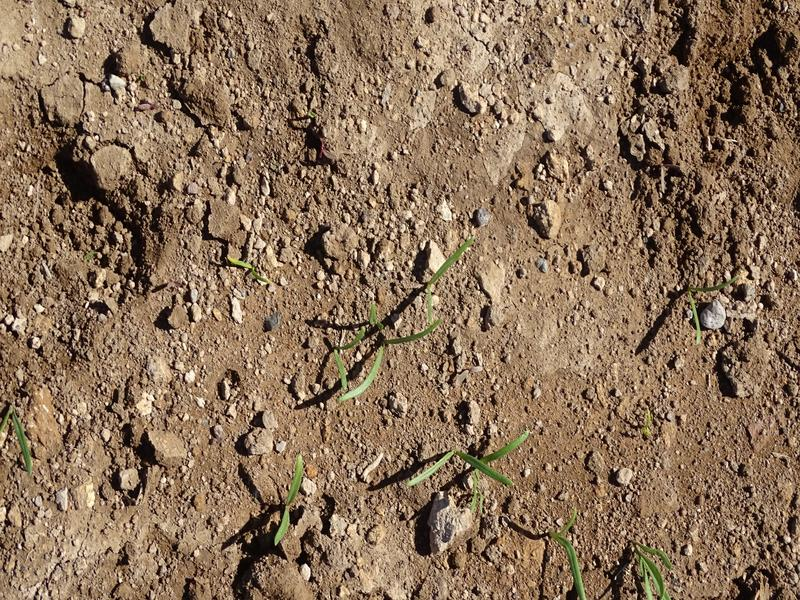Espinaca: (332, 306, 442, 396), (413, 434, 527, 504), (550, 507, 598, 597), (417, 235, 478, 295), (268, 453, 305, 542), (628, 536, 679, 599)
